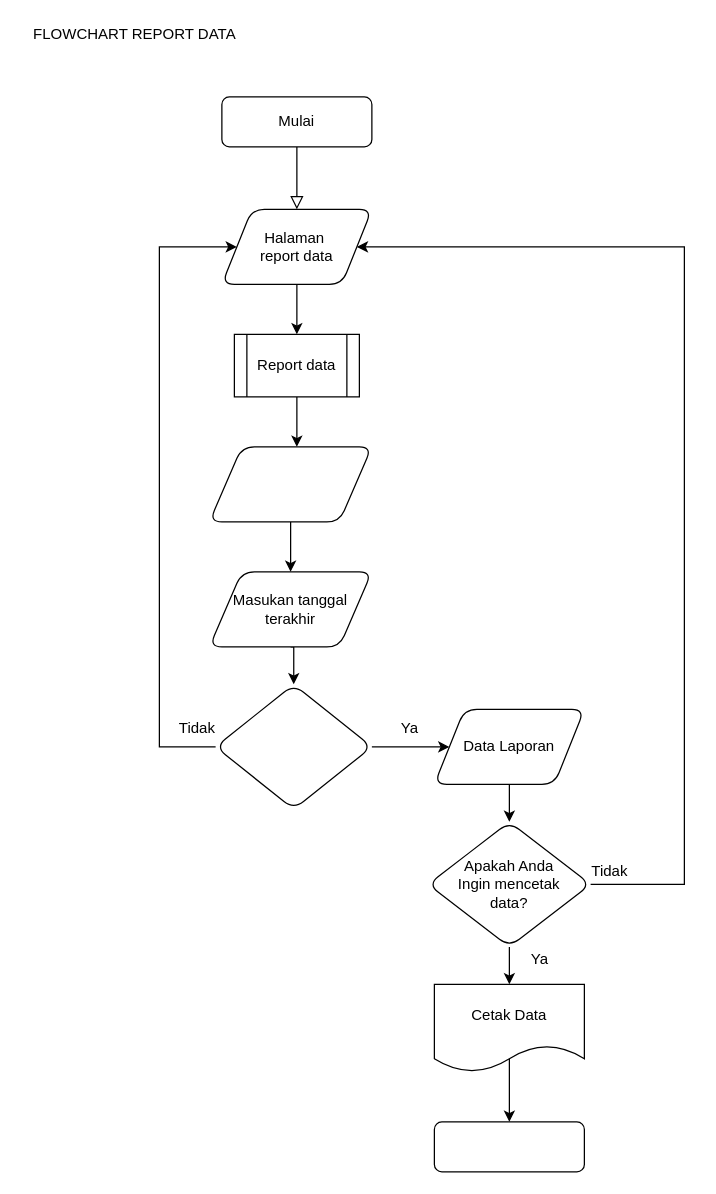
Some shapes in this 716 by 1194 pixel diagram are drawn without their labels. The shapes that lost their labels are listed below. From the top down, each one's centre as x and y in pixels, then its label:
the point at 290,484: Masukan tanggal pertama
the point at 293,746: Apakah memenuhi syarat validasi ?
the point at 508,1146: Selesai
